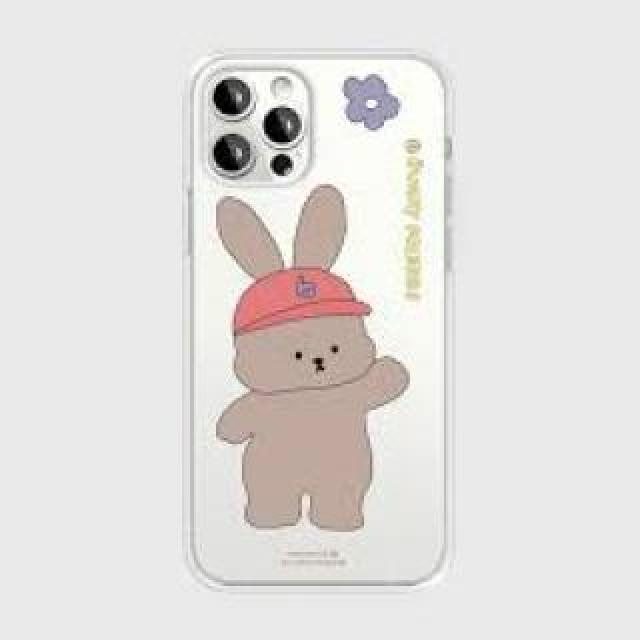smart phone: (187, 47, 485, 580)
